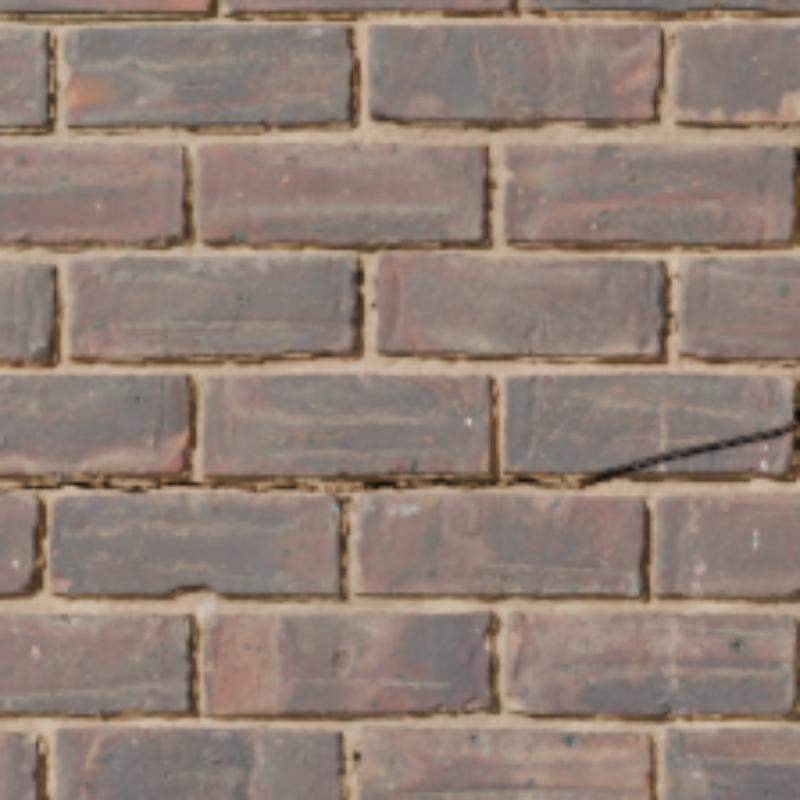pothole: (157, 396, 796, 489), (0, 482, 56, 489), (77, 484, 143, 489)
